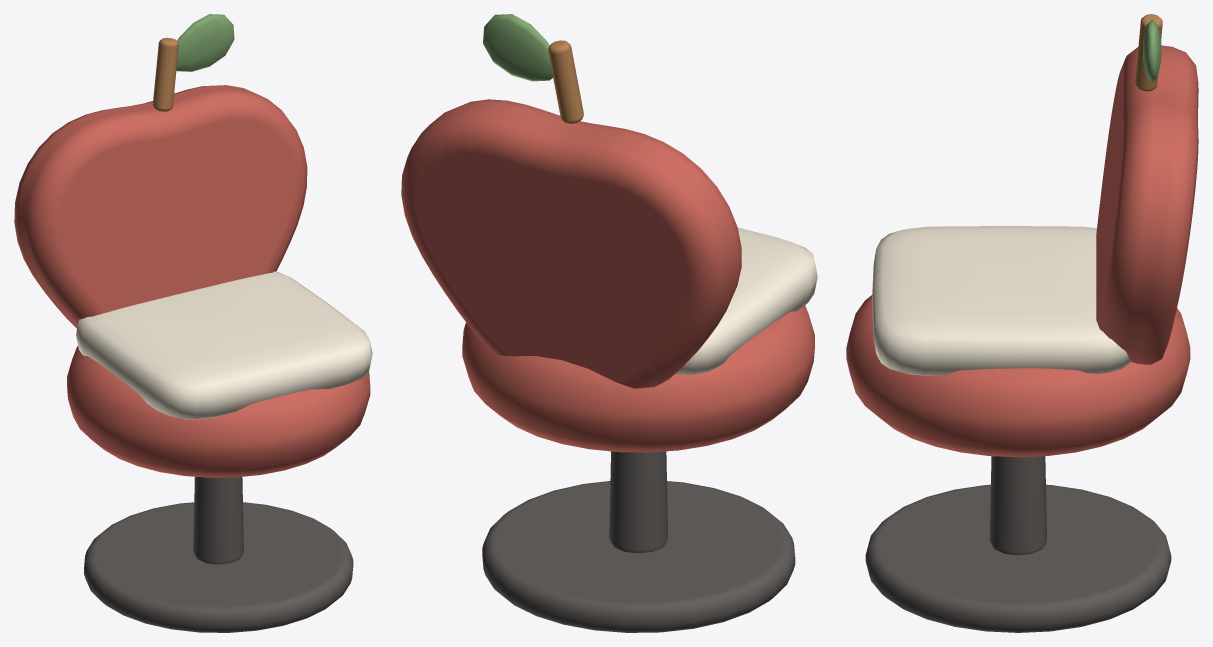
Rendered from apple_chair.glb.
3 renders of one model, left to right at view 1: azimuth 30°, elevation 25°; view 2: azimuth 150°, elevation 25°; view 3: azimuth 270°, elevation 25°, orthographic. The views are drawn at different scales.
Parts seen in each view (by area): view 1: apple_chair_mesh; view 2: apple_chair_mesh; view 3: apple_chair_mesh.
Part boxes in pixels (<box>): apple_chair_mesh: <box>14,14,372,632</box>; apple_chair_mesh: <box>401,14,817,632</box>; apple_chair_mesh: <box>846,14,1198,632</box>.
Size of the model in its own units: 0.5701 by 1 by 0.5528.
